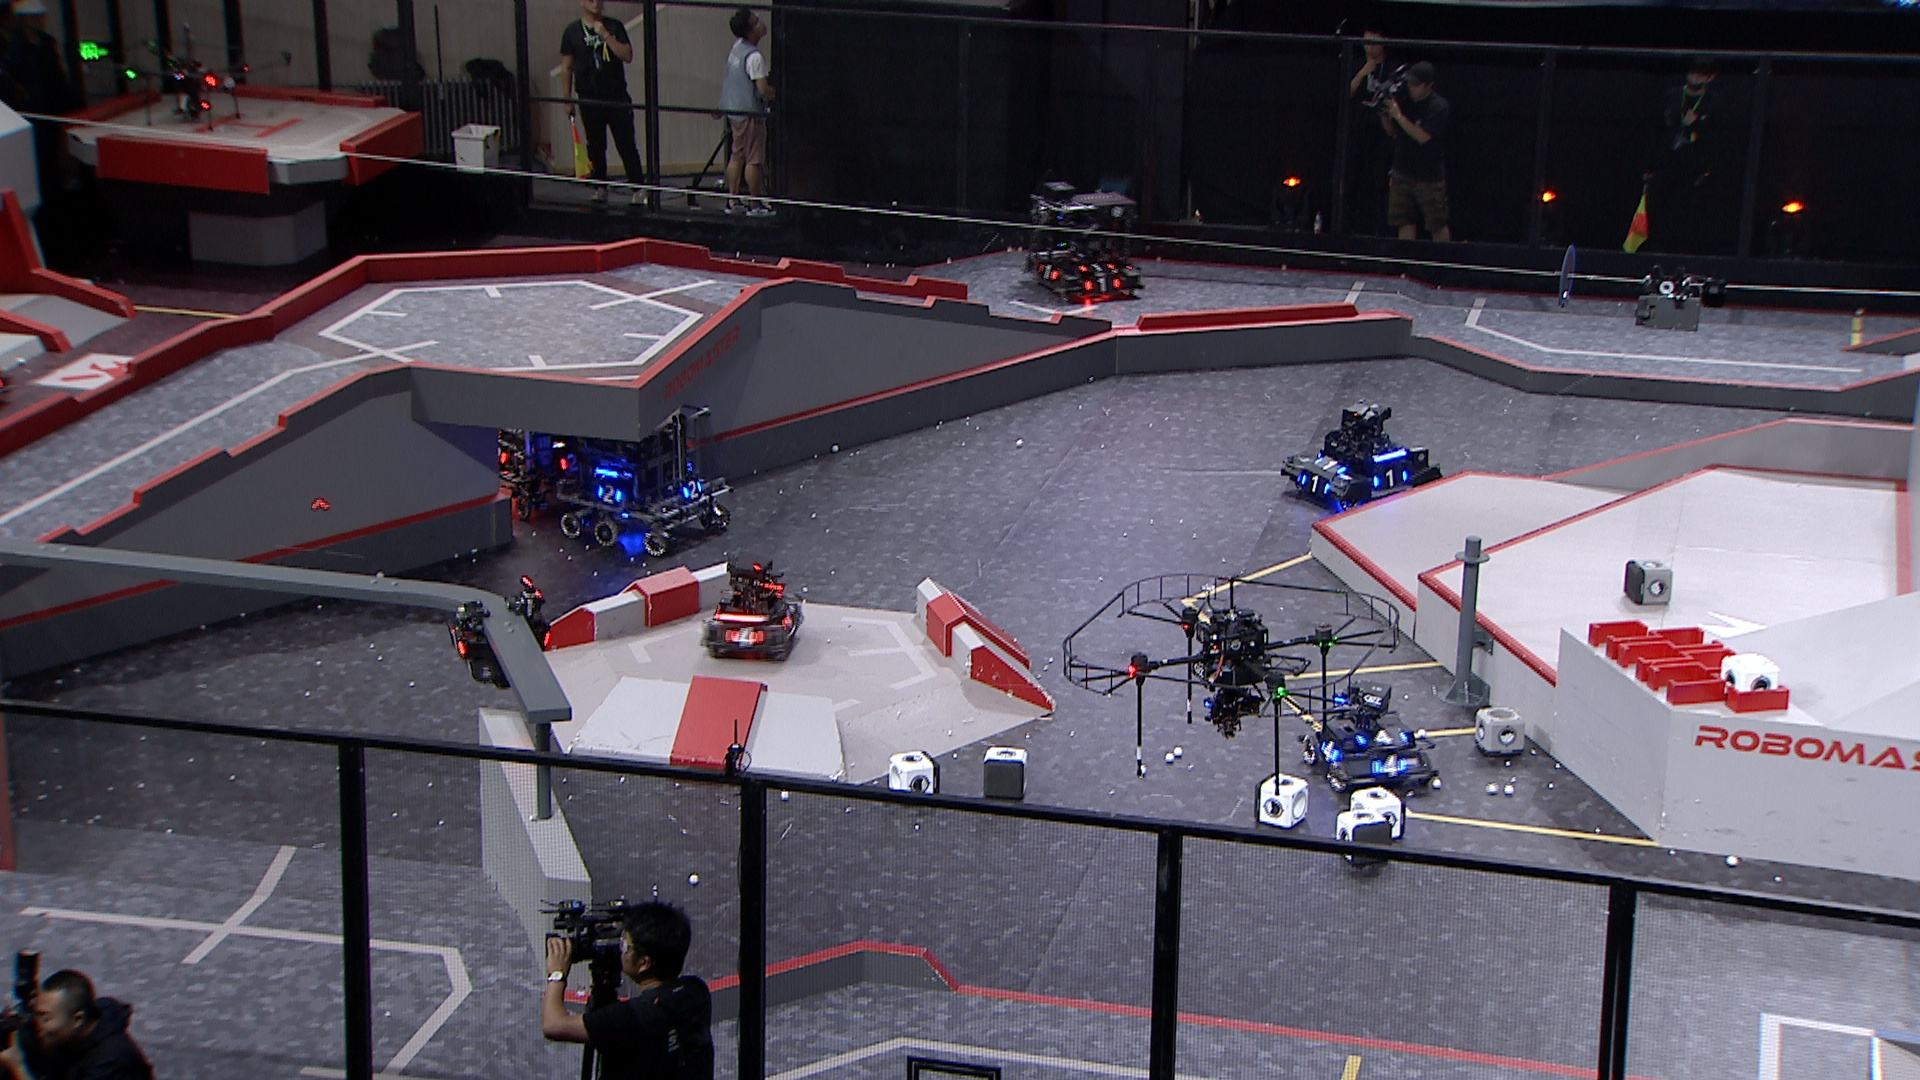armor: (1352, 727, 1408, 746), (723, 624, 767, 647), (443, 618, 468, 659), (1370, 467, 1408, 491), (1373, 754, 1408, 779), (1081, 276, 1124, 295), (1299, 472, 1333, 495), (596, 483, 624, 509), (1313, 456, 1348, 475), (556, 451, 583, 473), (1077, 261, 1116, 276), (1316, 738, 1340, 761), (680, 479, 704, 501), (1034, 262, 1060, 282), (782, 608, 798, 632)
car: (553, 404, 735, 553), (1278, 401, 1444, 520), (467, 380, 605, 520), (1300, 680, 1439, 796), (1021, 191, 1147, 305), (695, 560, 804, 662)
watcher: (440, 574, 550, 692)
